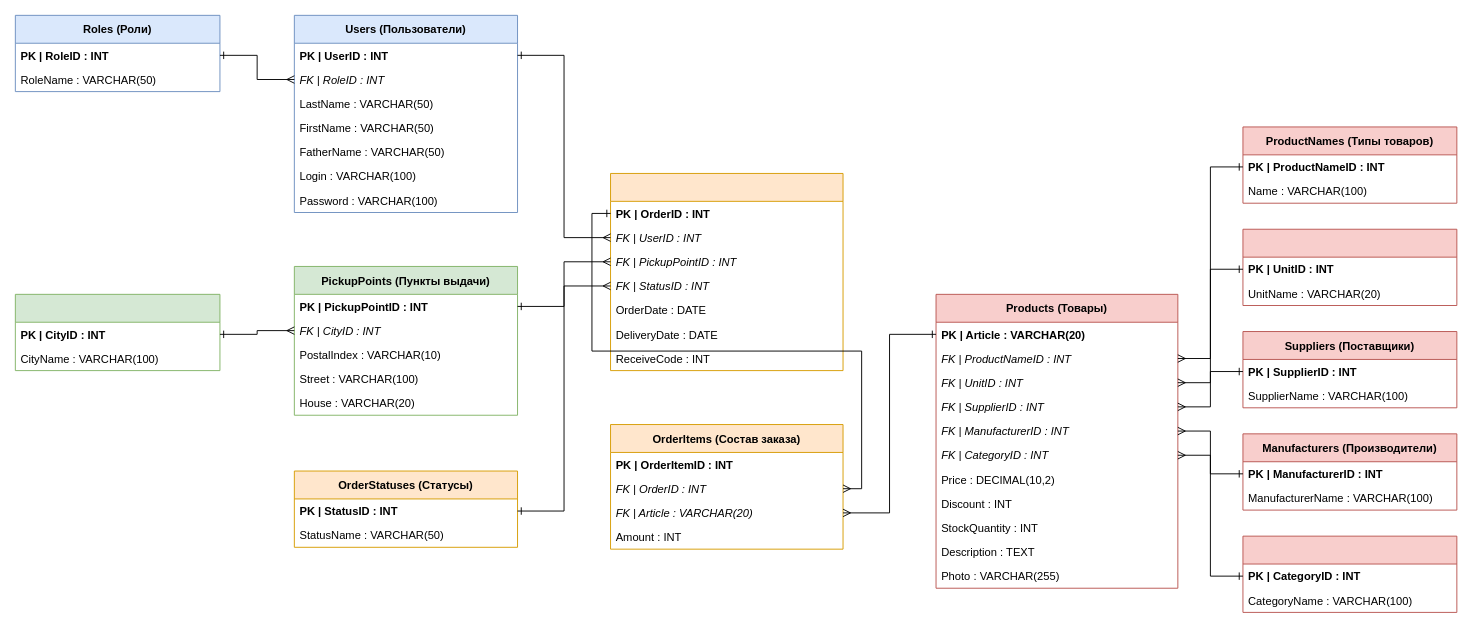
Image size: 1472x628. Some labels were removed from this diagram. The box of each missing label's shape, as (x1, y1, x2, y2) in pixels:
Categories (Категории): (1242, 535, 1457, 612)
Cities (Города): (14, 293, 220, 371)
Orders (Заказы): (610, 173, 843, 371)
Units (Единицы измерения): (1242, 228, 1457, 306)
